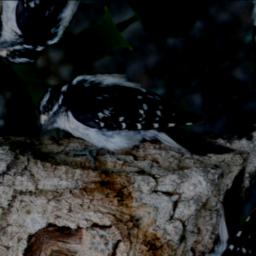Woodpecker: (15, 21, 237, 238)
